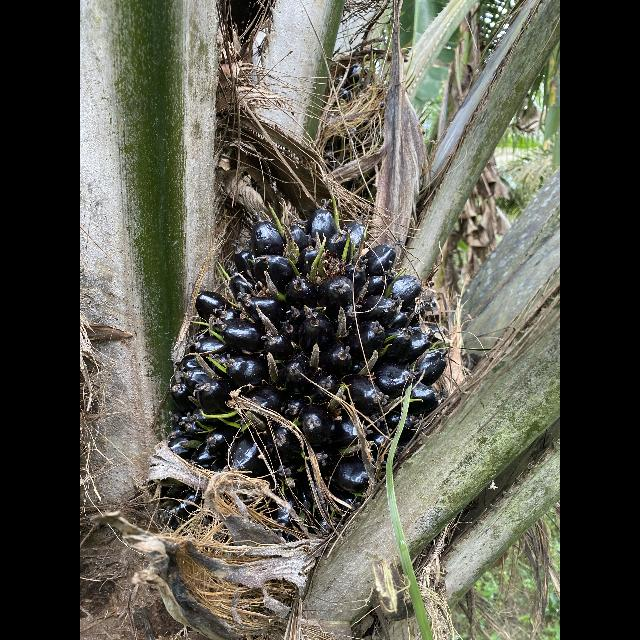Unripe: (164, 203, 467, 524), (188, 289, 212, 338)
